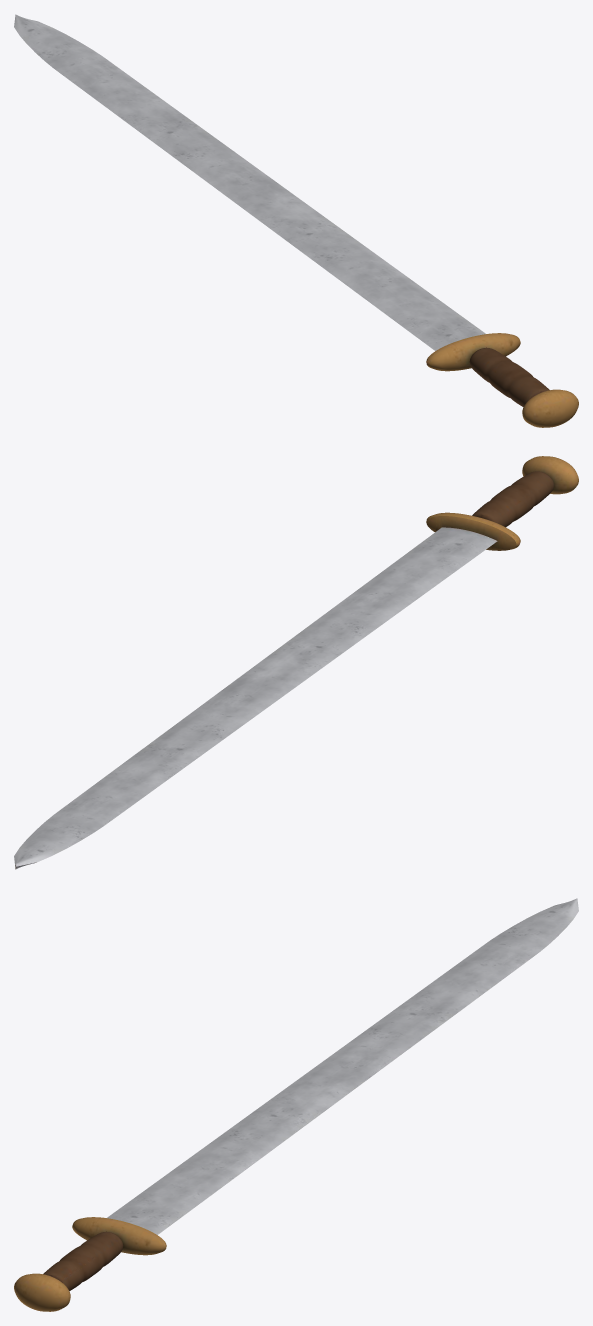
File: bucellarius_sword.glb
3 renders of one model, top to bottom at view 1: azimuth 30°, elevation 25°; view 2: azimuth 150°, elevation 25°; view 3: azimuth 330°, elevation 25°, orthographic.
Parts seen in each view (by area): view 1: bucellarius_sword; view 2: bucellarius_sword; view 3: bucellarius_sword.
Boxes of the visible parts, x1,y1,x2,y2 form: bucellarius_sword: (14, 14, 578, 427); bucellarius_sword: (14, 456, 578, 869); bucellarius_sword: (14, 898, 578, 1311).
Bounding box in the file's own units: 0.0966 × 0.0332 × 0.976.
Materials: 1 (1 with a texture image).
